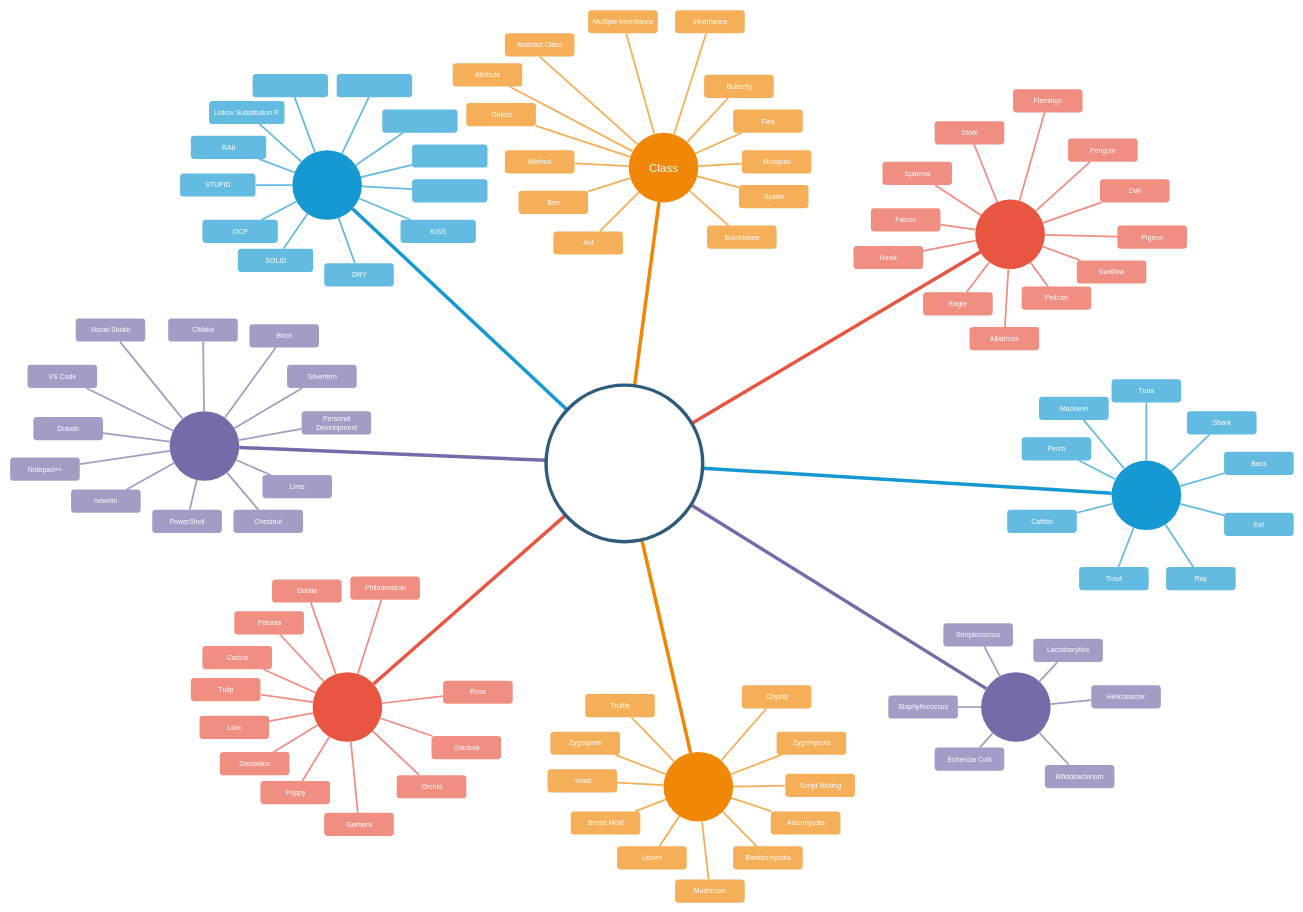
Some shapes in this 1303 by 912 pixel diagram are drawn without their labels. Here are the shapes that lost their labels. From the top down, the centre of each, then its label:
the point at 327,185: Techniques
the point at 1010,234: Bird
the point at 204,446: Tools/IDEs
the point at 624,463: C++
the point at 1146,495: Fish
the point at 347,707: Flower
the point at 1015,707: Bacteria
the point at 698,786: Fungi
